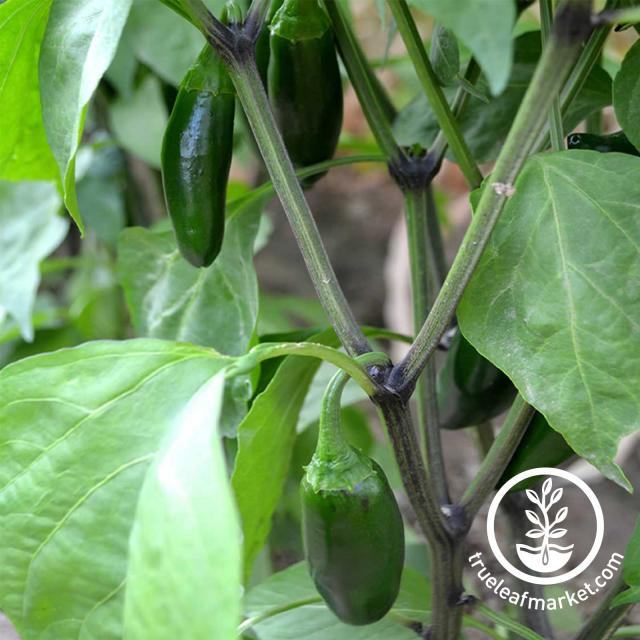aji: (311, 432, 404, 621), (266, 15, 358, 185), (164, 60, 237, 264)
